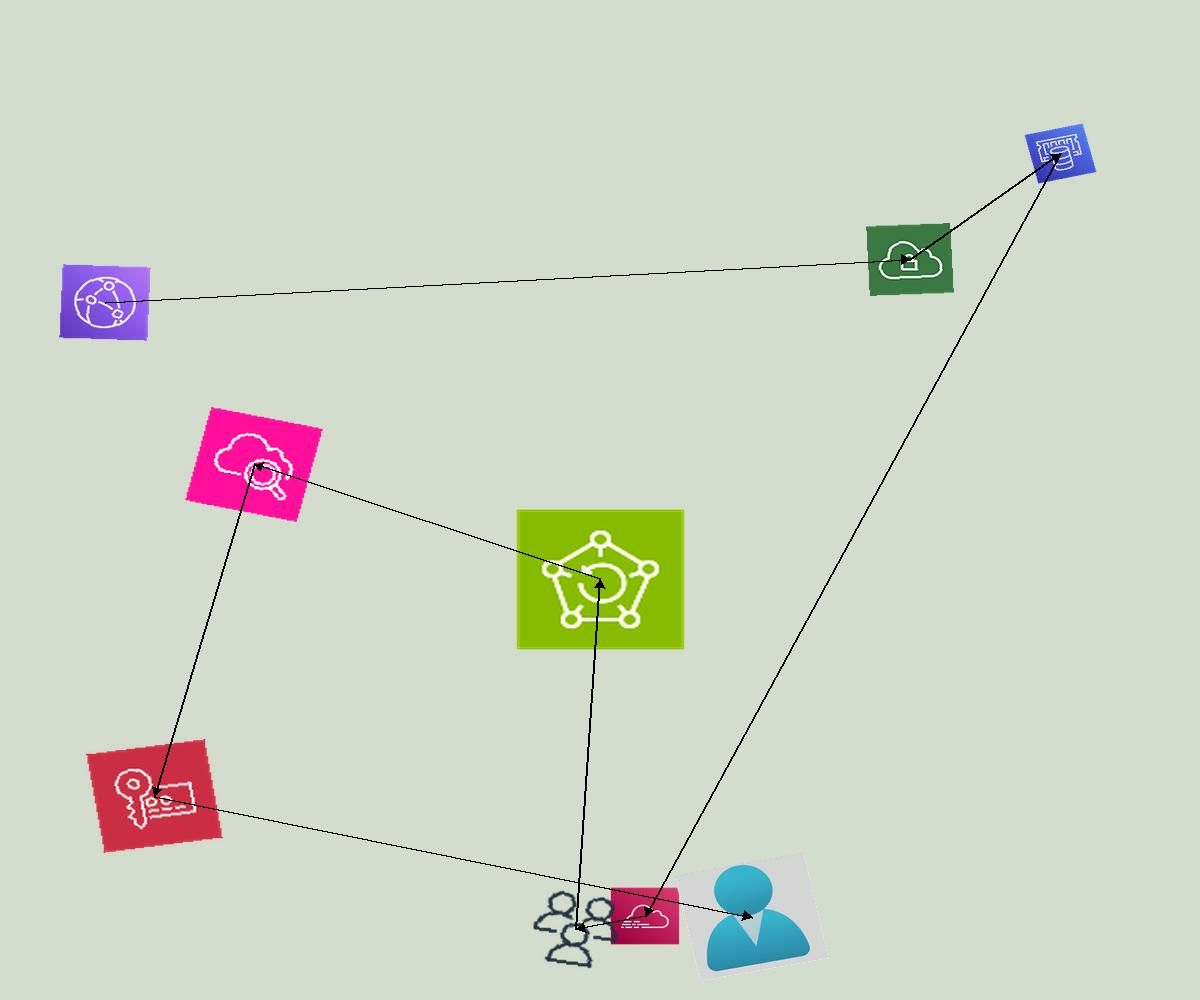AWS-Backup: (515, 508, 686, 651)
AWS-CloudFront: (59, 264, 151, 341)
AWS-CloudTrail: (610, 887, 680, 945)
AWS-CloudWatch: (184, 406, 324, 523)
AWS-ElastiCache: (1024, 123, 1097, 184)
AWS-Key-Management-Service: (86, 739, 223, 853)
AWS-Private_vpc: (866, 223, 954, 296)
AWS-Res_Users: (520, 883, 632, 976)
Azure_users: (674, 852, 830, 982)
